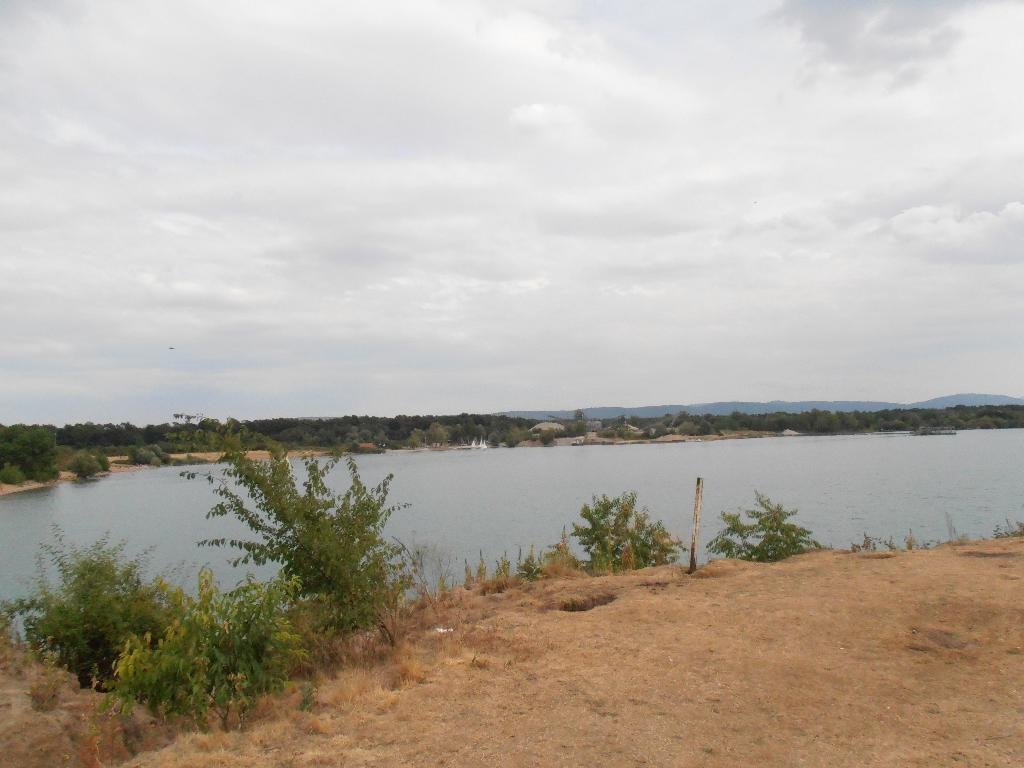Tree: (0, 405, 1023, 480), (193, 447, 417, 663)
